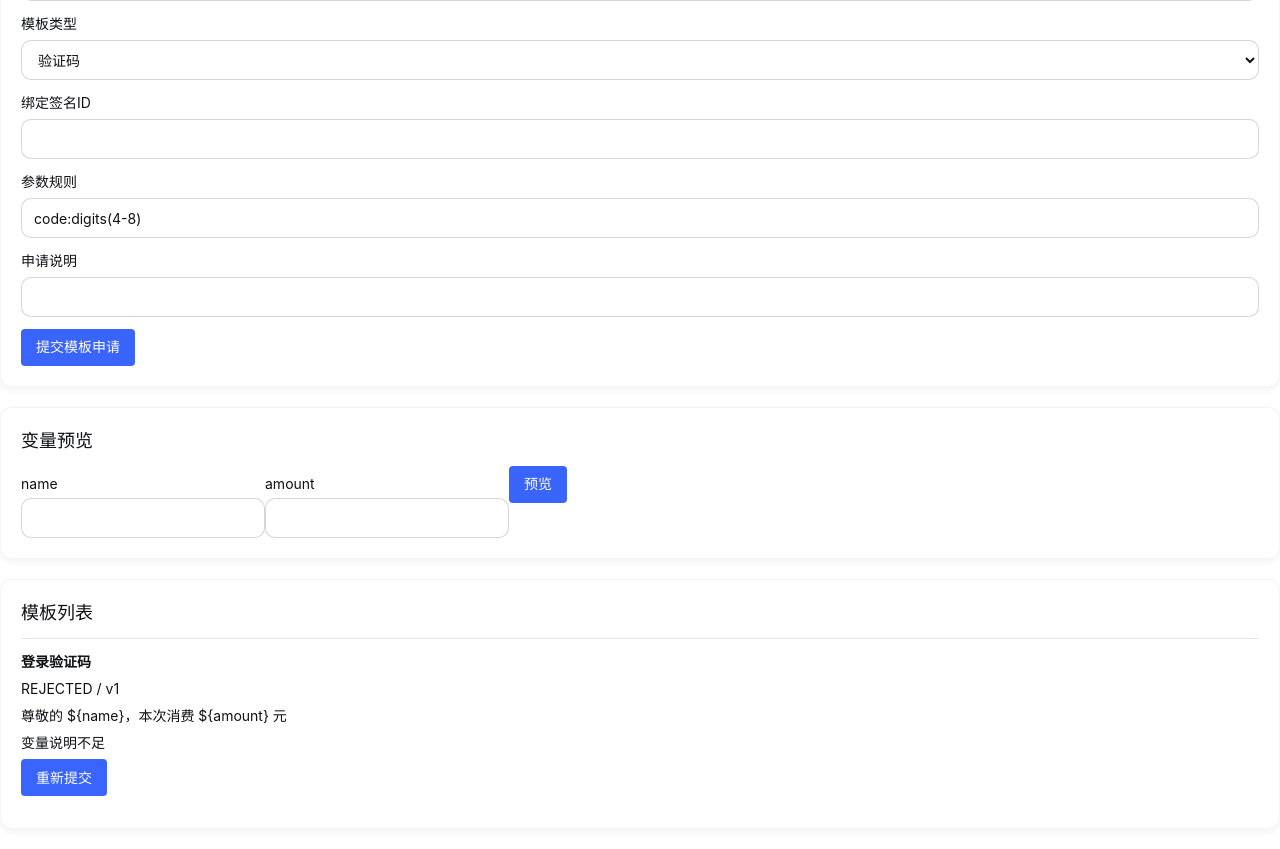
Test: Phase 13 template lifecycle UI › resubmits rejected template as a new pending version
(page scrolled)
Click the button with test id "tenant-template-lifecycle-templates-resubmit". click: (64, 778)
box: x1=21 y1=759 x2=107 y2=796
(page scrolled)
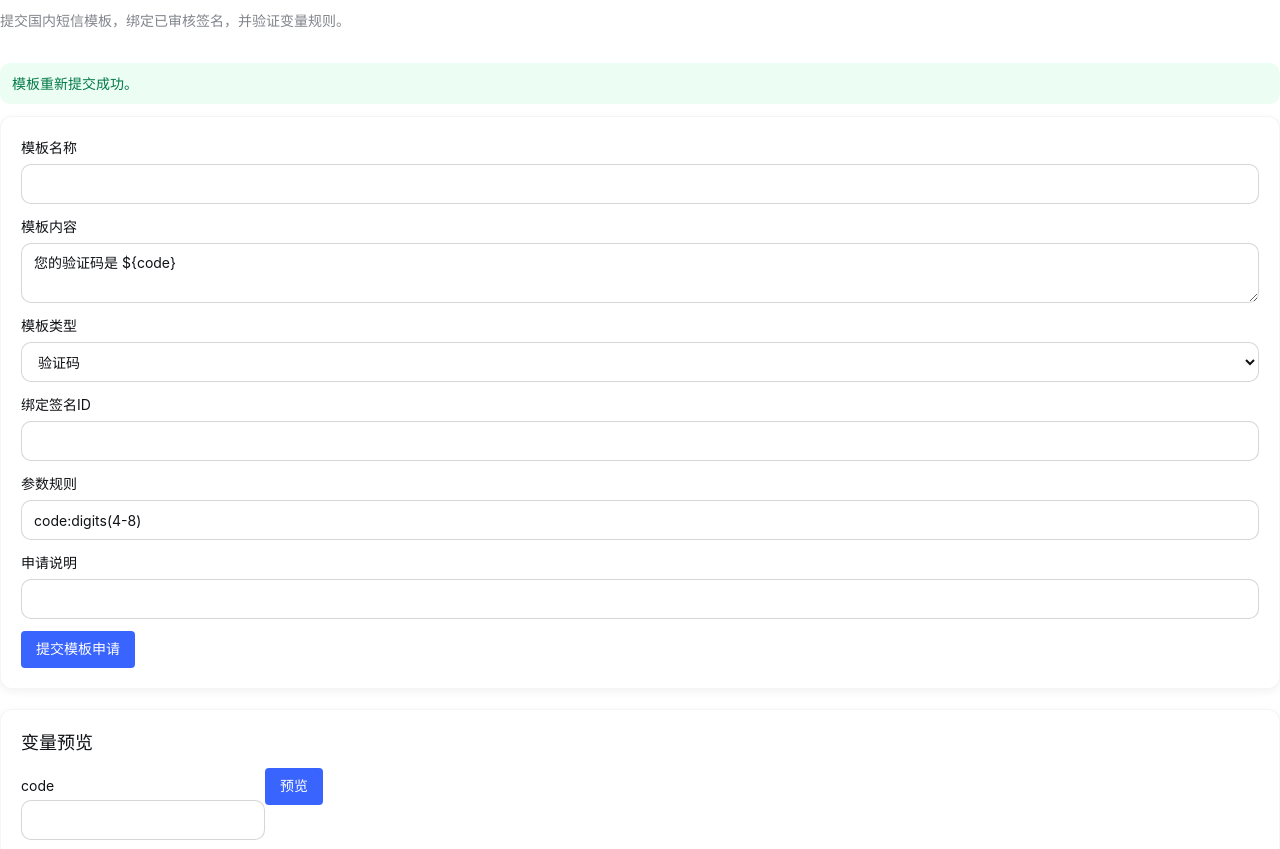
Expected: the text "模板重新提交成功。" is shown, x1=0 y1=63 x2=1279 y2=104
